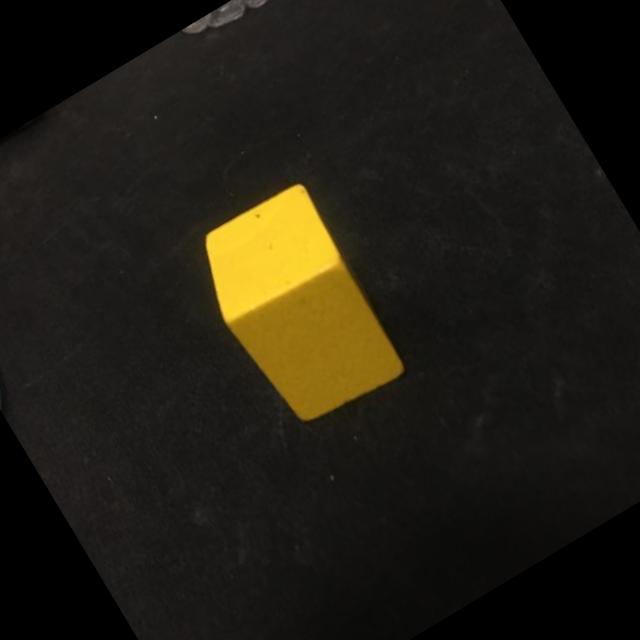yellow: (206, 182, 405, 420)
